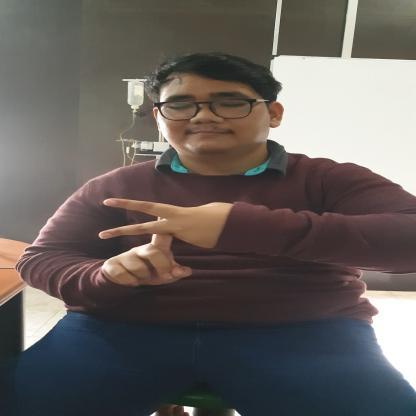F: (96, 198, 213, 288)
